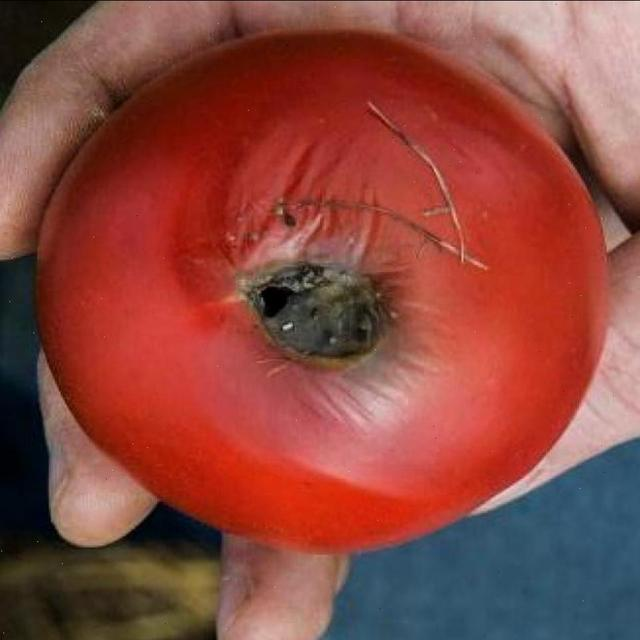Blossom End Rot Fruit: (153, 165, 279, 255)
